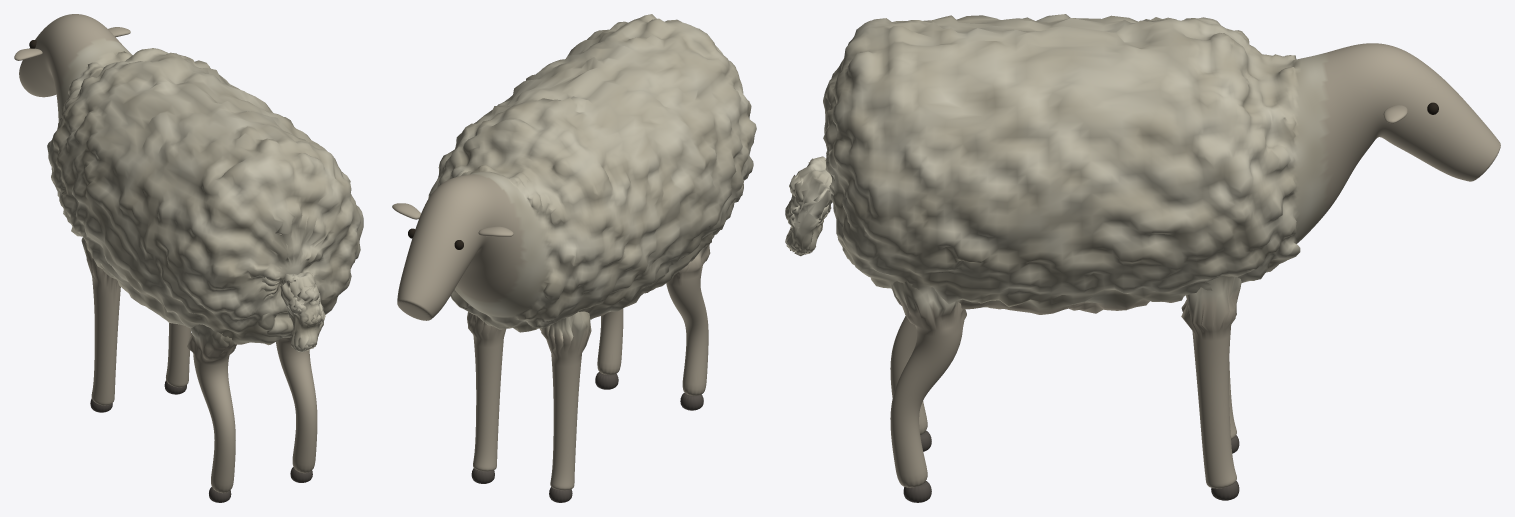
File: sheep_white_standing.gltf
3 views of the same model, side by side, from view 1: azimuth 30°, elevation 25°; view 2: azimuth 150°, elevation 25°; view 3: azimuth 270°, elevation 25° (orthographic). The views are drawn at different scales.
Parts seen in each view (by area): view 1: sheep; view 2: sheep; view 3: sheep.
Boxes of the visible parts, bbox=[...] form: sheep: bbox=[14, 14, 363, 502]; sheep: bbox=[392, 14, 756, 502]; sheep: bbox=[785, 14, 1500, 502].
Bounding box in the file's own units: 0.5328 × 0.9203 × 1.33.
